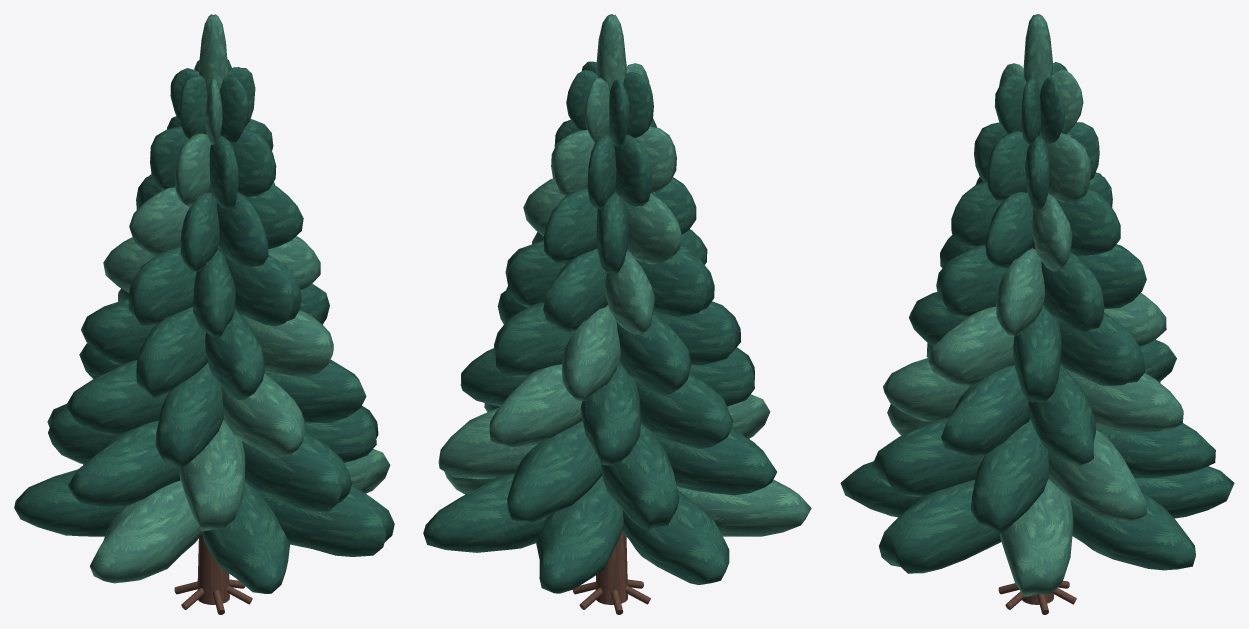
The model's file is tree_4.glb.
The picture shows the model from 3 angles, left to right: view 1: azimuth 30°, elevation 25°; view 2: azimuth 150°, elevation 25°; view 3: azimuth 270°, elevation 25°; orthographic projection.
Visible parts, largest first — view 1: tree_4; view 2: tree_4; view 3: tree_4.
Boxes of the visible parts, left/top/right/bottom form: tree_4: left=14, top=14, right=394, bottom=614; tree_4: left=423, top=14, right=811, bottom=614; tree_4: left=840, top=14, right=1234, bottom=614.
Bounding box in the file's own units: 5.08 × 8.62 × 5.27.
Materials: 1 (1 with a texture image).
